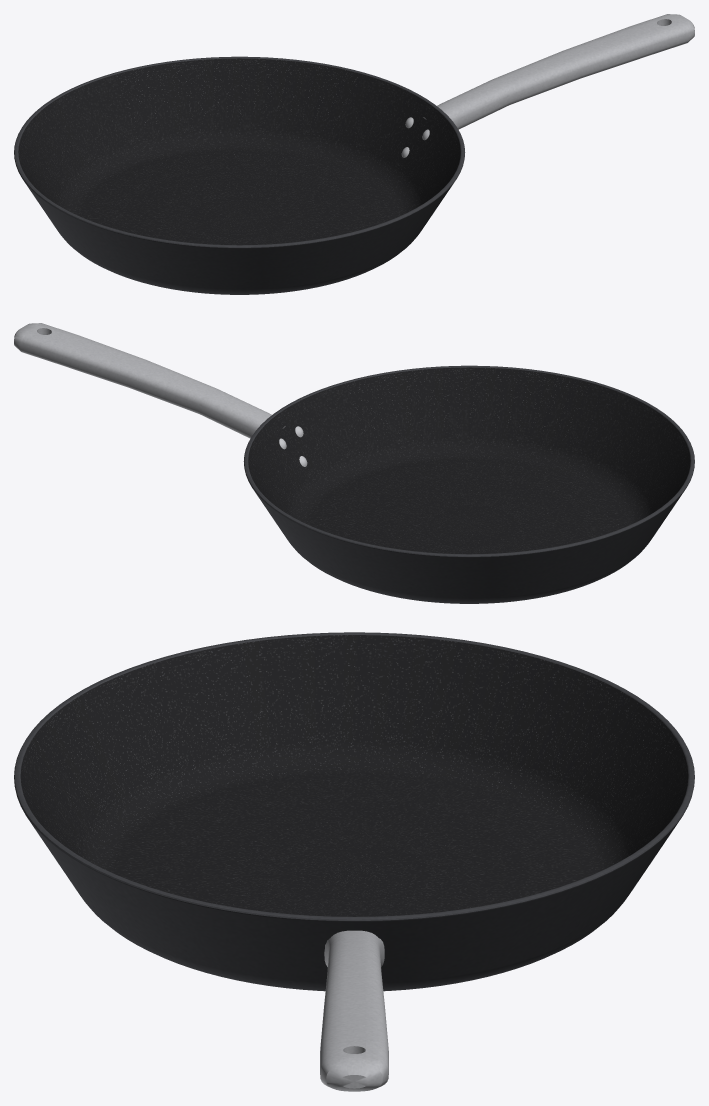
The model's file is innerscene_frying_pan.glb.
The picture shows the model from 3 angles, top to bottom: view 1: azimuth 30°, elevation 25°; view 2: azimuth 150°, elevation 25°; view 3: azimuth 270°, elevation 25°; orthographic projection. The views are drawn at different scales.
Parts seen in each view (by area): view 1: Pan body, hard-anodised aluminium with nonstick interior, Handle, brushed stainless steel; view 2: Pan body, hard-anodised aluminium with nonstick interior, Handle, brushed stainless steel; view 3: Pan body, hard-anodised aluminium with nonstick interior, Handle, brushed stainless steel.
Part boxes in pixels (x1,y1,x2,y2): Pan body, hard-anodised aluminium with nonstick interior: (14, 56, 465, 294); Handle, brushed stainless steel: (423, 14, 694, 129); Pan body, hard-anodised aluminium with nonstick interior: (243, 365, 694, 603); Handle, brushed stainless steel: (14, 323, 285, 438); Pan body, hard-anodised aluminium with nonstick interior: (14, 632, 694, 991); Handle, brushed stainless steel: (320, 930, 388, 1091).
Bounding box in the file's own units: 0.4575 × 0.0676 × 0.2768.
Materials: 4 (4 with a texture image).
